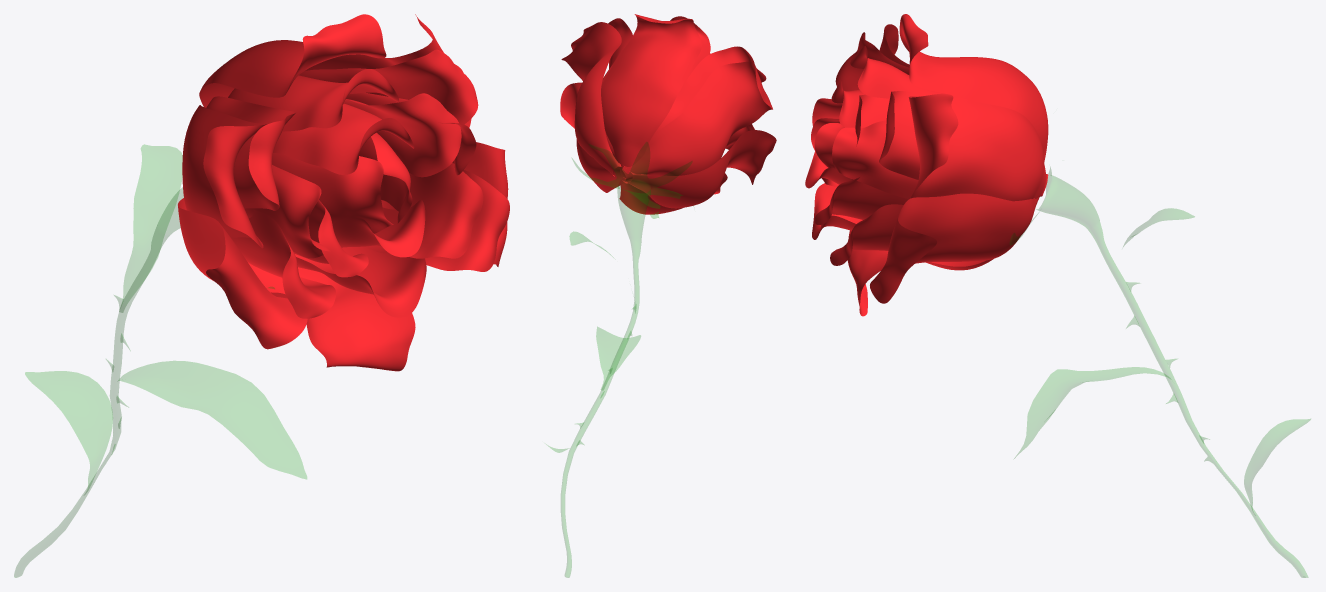
Rendered from rose3.glb.
3 views of the same model, side by side, from view 1: azimuth 30°, elevation 25°; view 2: azimuth 150°, elevation 25°; view 3: azimuth 270°, elevation 25° (orthographic). The views are drawn at different scales.
Visible parts, largest first — view 1: petals, Stem; view 2: petals, Stem; view 3: petals, Stem.
Part boxes in pixels (x1,y1,x2,y2): petals: [178, 14, 509, 371]; Stem: [14, 144, 306, 577]; petals: [560, 14, 776, 214]; Stem: [548, 142, 692, 577]; petals: [805, 14, 1048, 316]; Stem: [1010, 167, 1310, 577].
Size of the model in its own units: 1.7 by 3.62 by 2.85.
